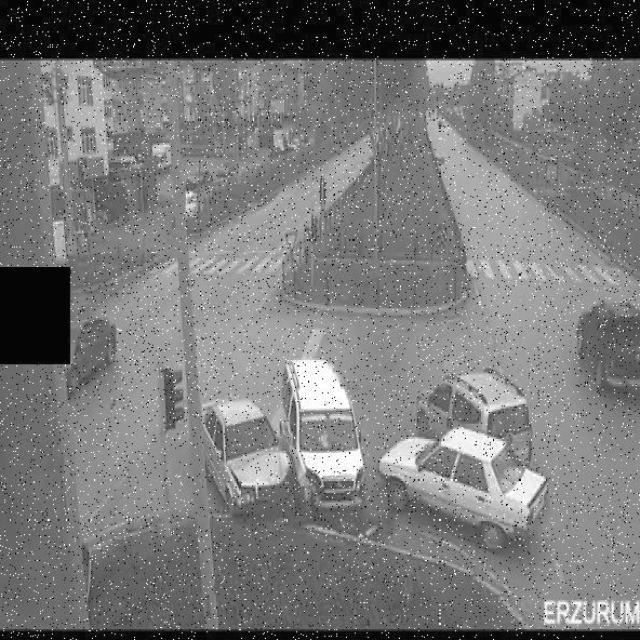accident: (376, 361, 552, 554), (191, 346, 370, 524)
